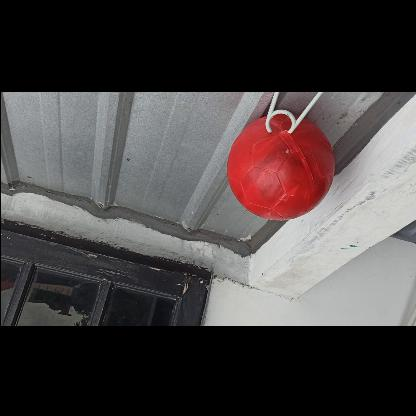red_ball: (224, 112, 334, 222)
